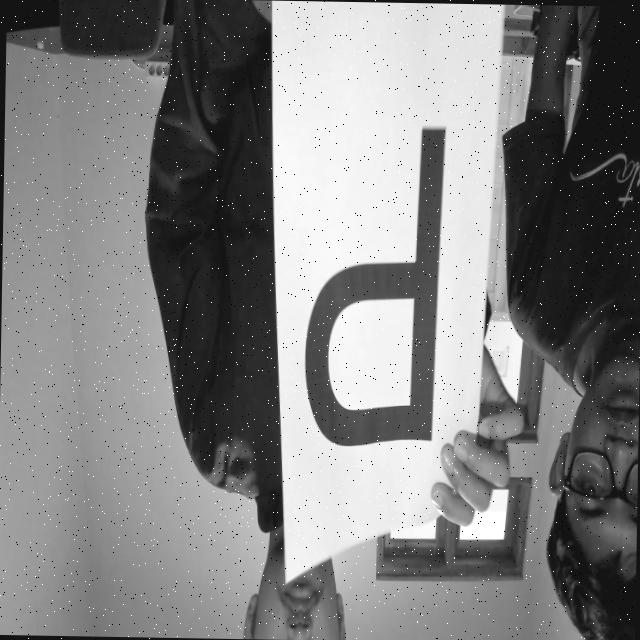p: (296, 107, 452, 452)
